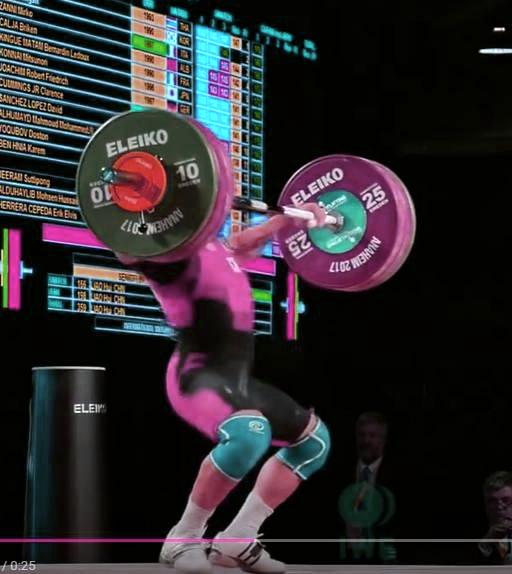Barbell: (95, 161, 123, 191)
